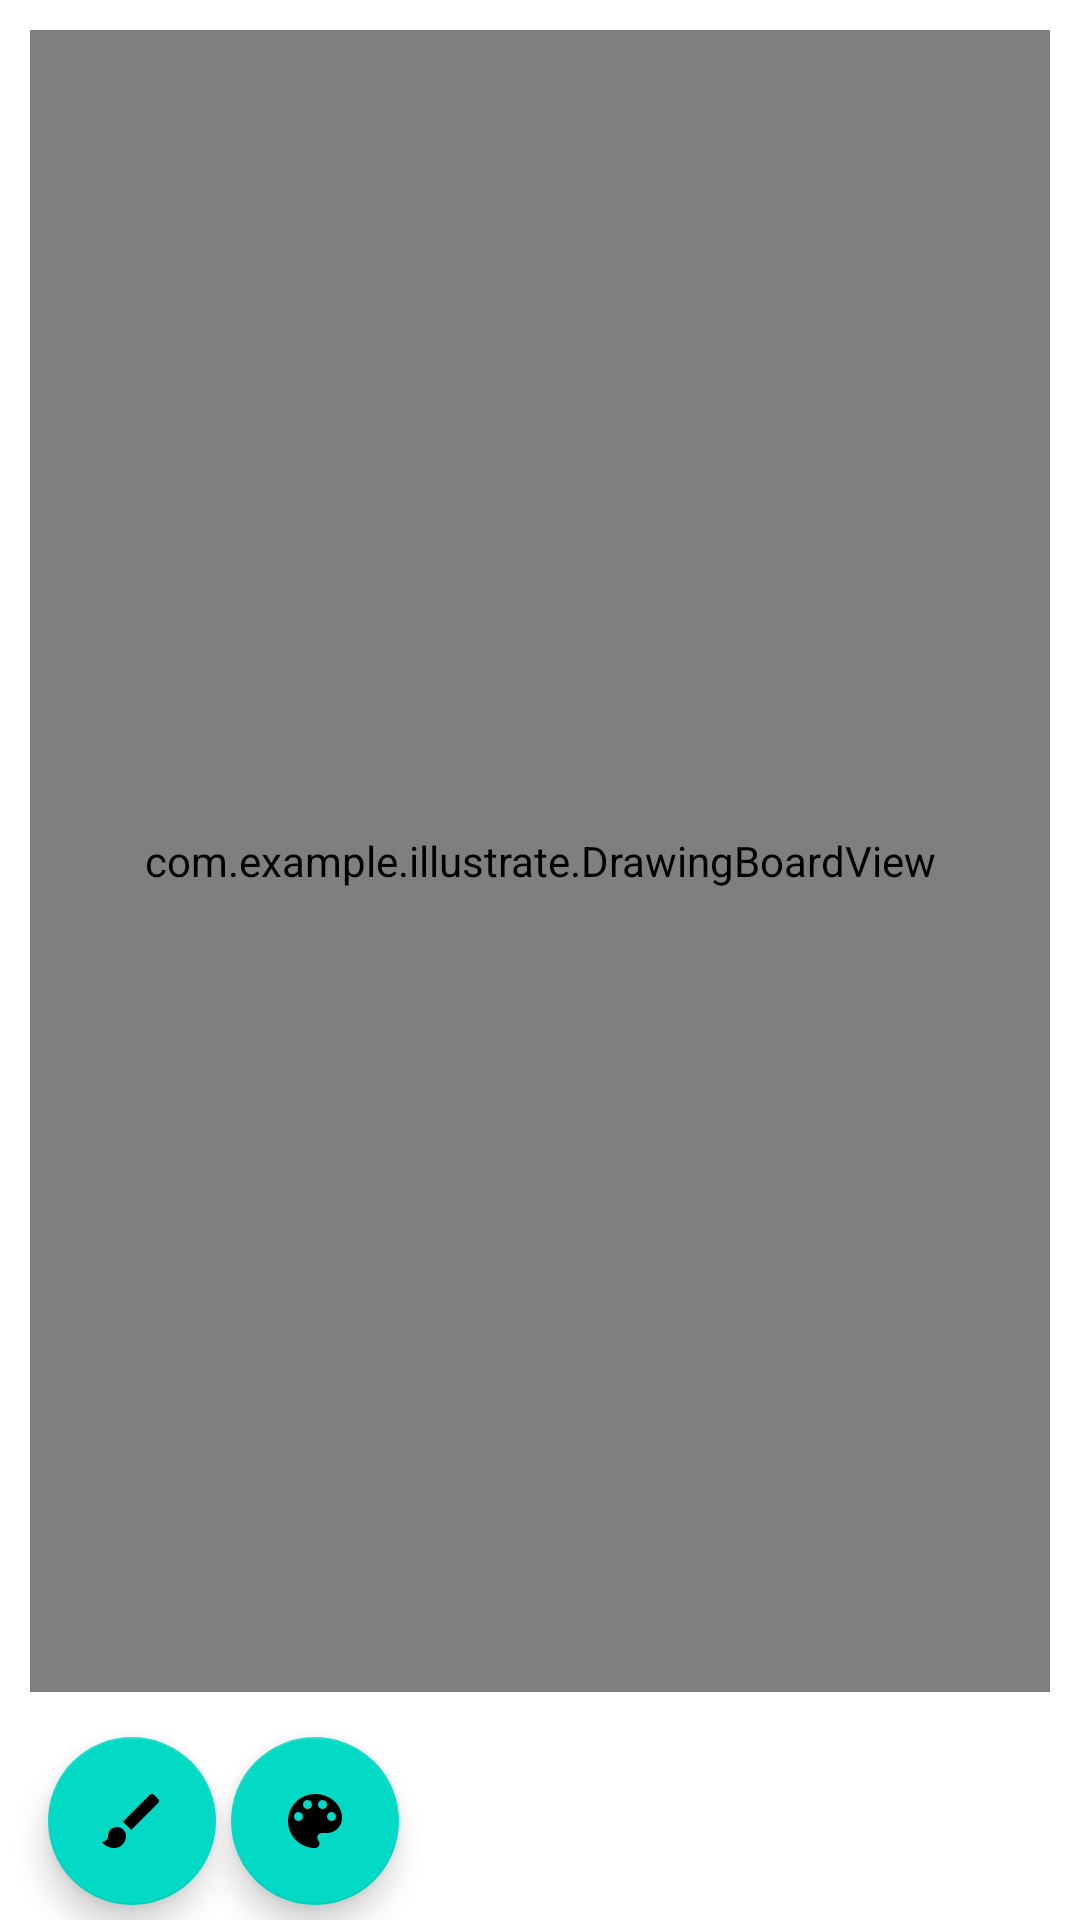

Icons on this 1080*1920 Android screen, each with the point to tap as point (x, y):
brush: point (132, 1821)
palette: point (315, 1821)
